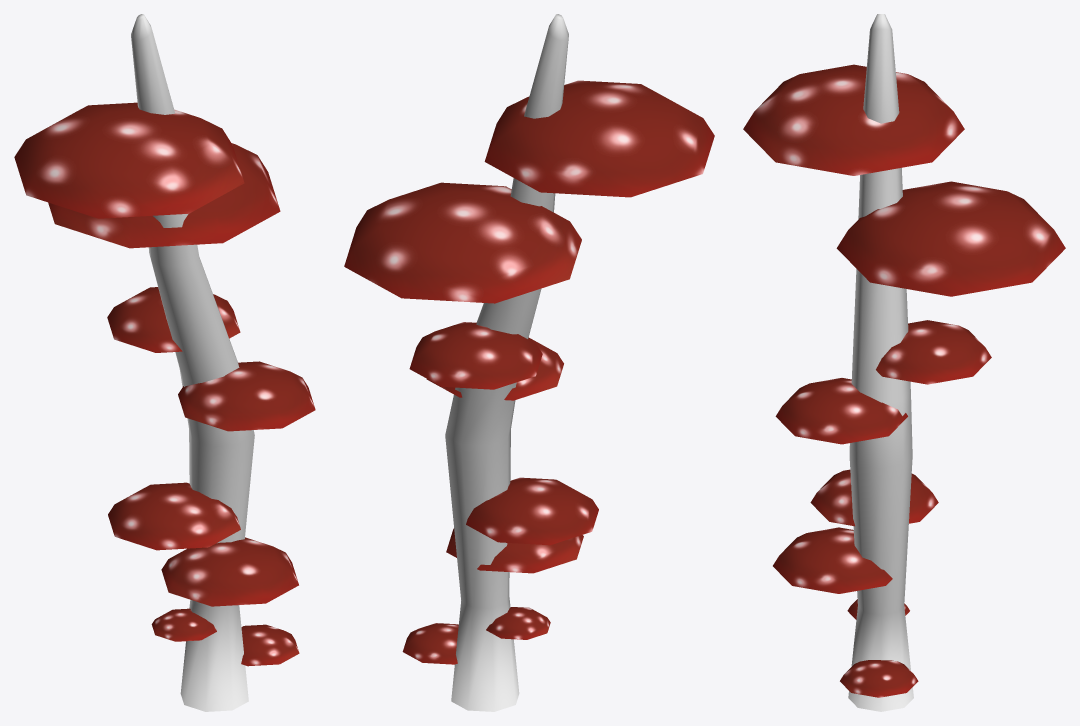
File: MushroomTree3.fbx
3 views of the same model, side by side, from view 1: azimuth 30°, elevation 25°; view 2: azimuth 150°, elevation 25°; view 3: azimuth 270°, elevation 25° (orthographic). The views are drawn at different scales.
Parts seen in each view (by area): view 1: Circle.010; view 2: Circle.010; view 3: Circle.010.
Part boxes in pixels (x1,y1,x2,y2): Circle.010: (14,14,315,711); Circle.010: (344,14,714,711); Circle.010: (743,14,1065,711).
Bounding box in the file's own units: 1594 × 3626 × 1628.
